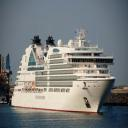cruises: (11, 28, 118, 117)
